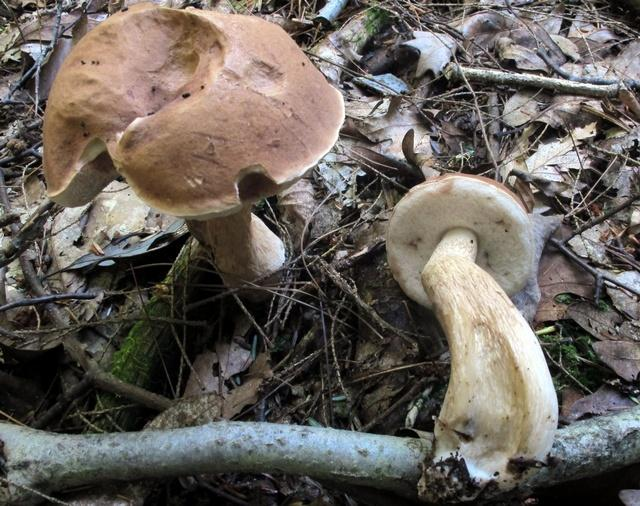Non-edible Mushroom: (40, 4, 346, 301), (383, 170, 560, 502)
